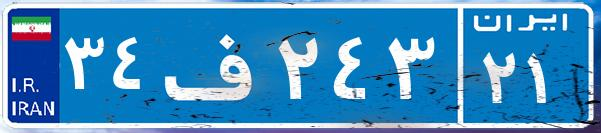1: (525, 38, 570, 115)
2: (273, 28, 330, 110), (475, 38, 525, 113)
3: (385, 28, 445, 110), (57, 26, 110, 107)
4: (330, 28, 385, 110), (110, 28, 158, 105)
ف: (158, 15, 273, 115)
